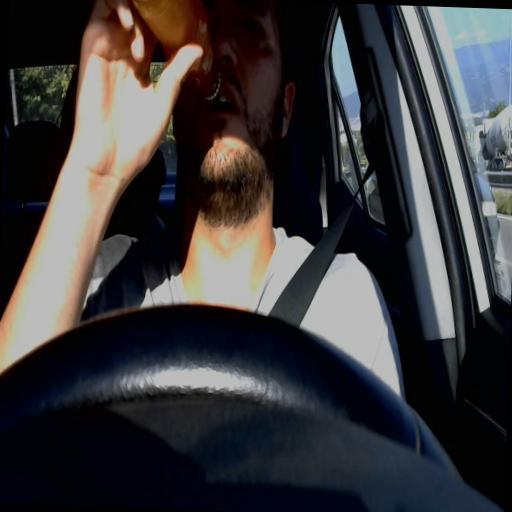Drinking: (94, 0, 294, 194)
